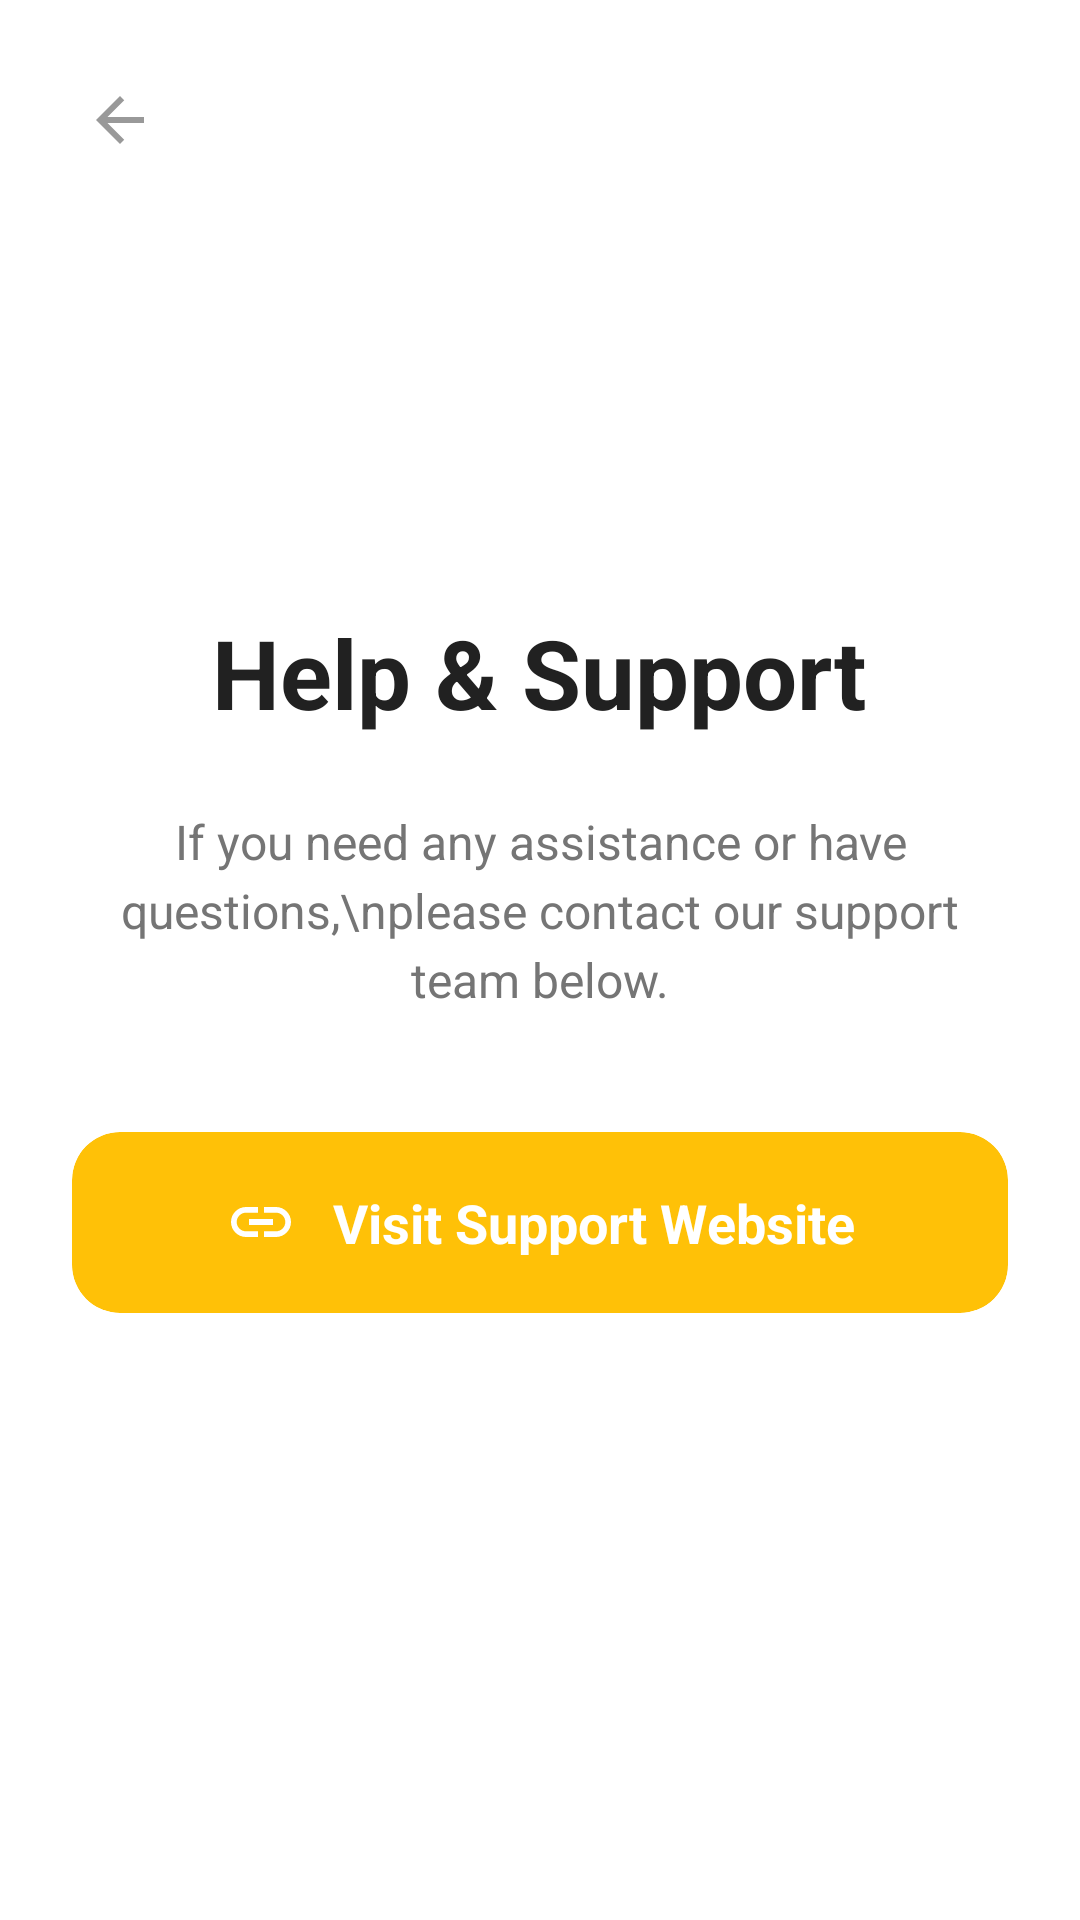

Icons on this 1080 x 1920 Android screen, each with its box as {"x1": x1, "y1": y1, "x2": x2, "y2": y2}:
Back button: {"x1": 96, "y1": 96, "x2": 144, "y2": 144}
Link icon: {"x1": 231, "y1": 1207, "x2": 291, "y2": 1237}
